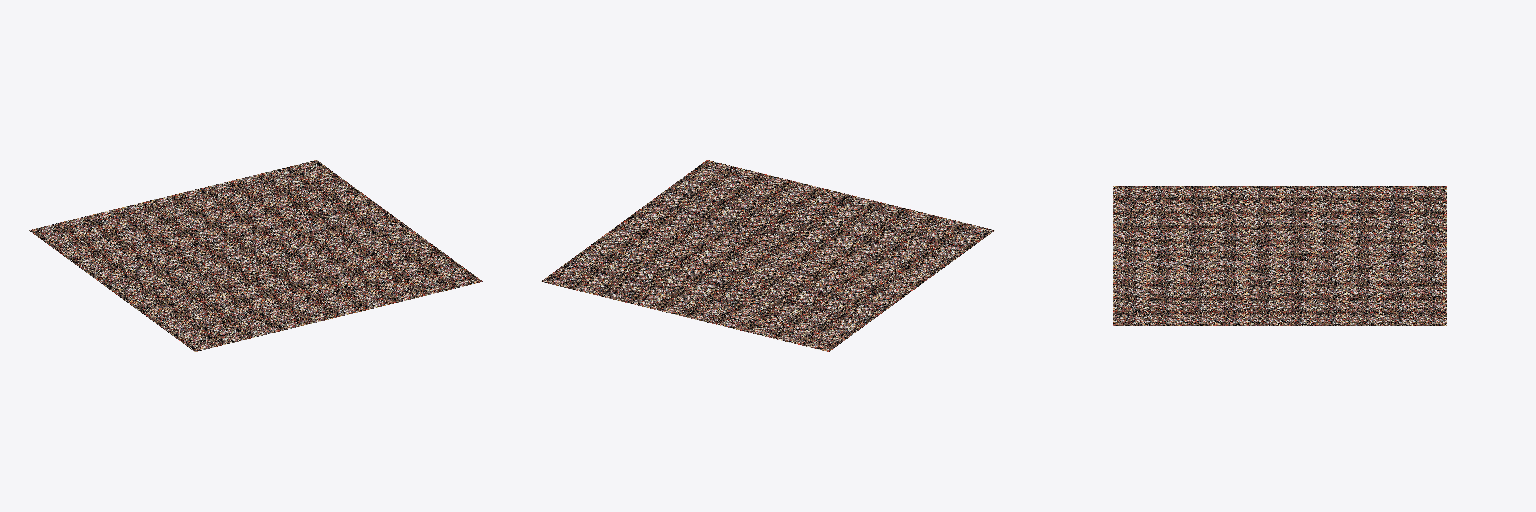
3 renders of one model, left to right at view 1: azimuth 30°, elevation 25°; view 2: azimuth 150°, elevation 25°; view 3: azimuth 270°, elevation 25°, orthographic.
Visible parts, largest first — view 1: piso; view 2: piso; view 3: piso.
Boxes of the visible parts, <box> form: piso: <box>29,160,482,351</box>; piso: <box>541,160,994,351</box>; piso: <box>1113,186,1446,325</box>.
Size of the model in its own units: 14.45 by 0 by 14.45.
Materials: 1 (1 with a texture image).